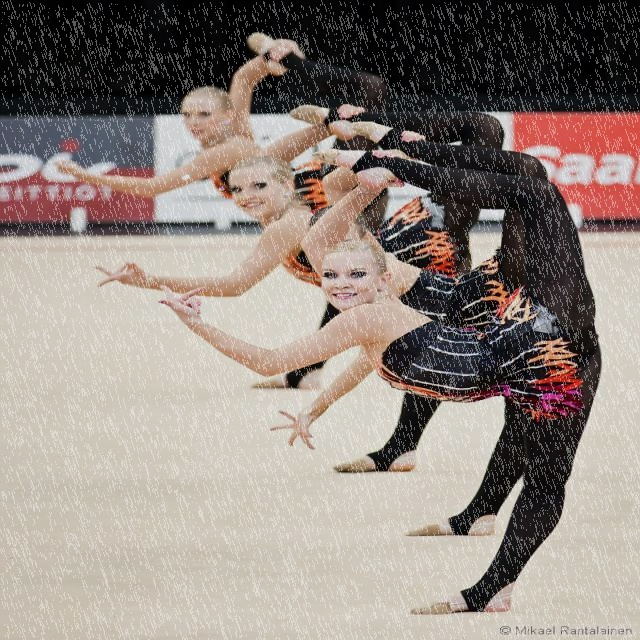pessoa: (150, 145, 610, 620), (91, 102, 507, 474), (289, 143, 552, 538), (53, 28, 396, 212)
